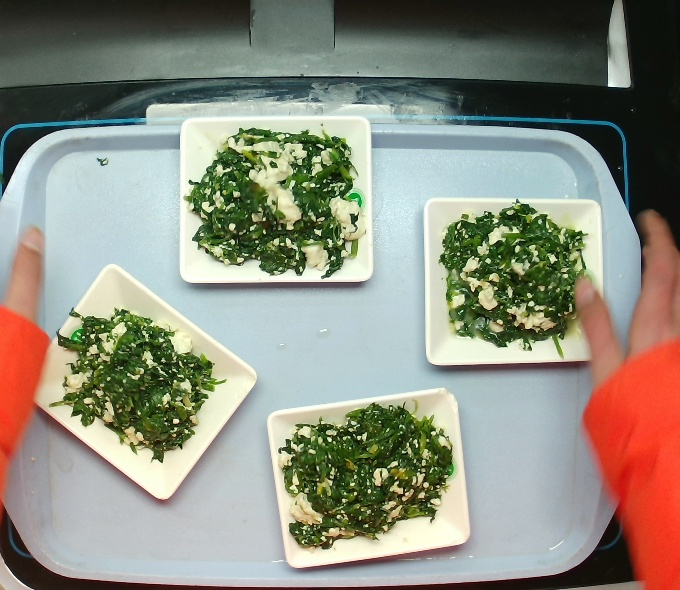wcq-QinCaiYeDouFu: (272, 385, 462, 561), (184, 120, 367, 280), (54, 300, 232, 460), (430, 199, 591, 353)
